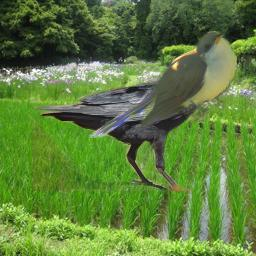Crow: (31, 56, 231, 191)
Cuckoo: (87, 31, 237, 138)
